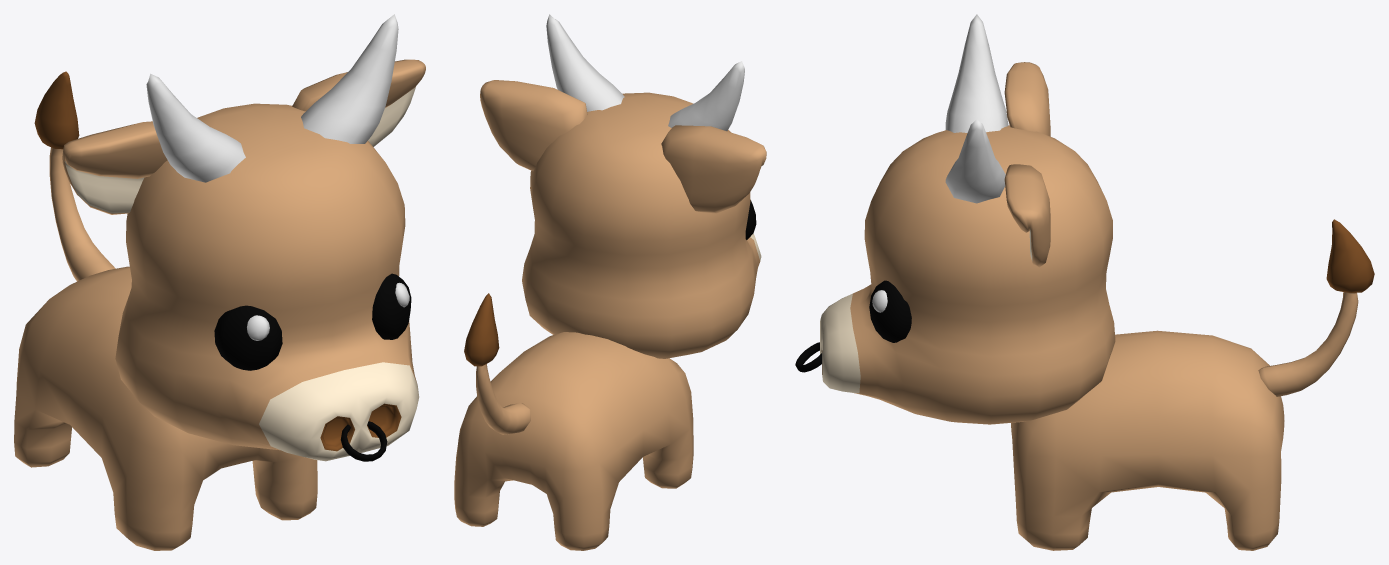
3 renders of one model, left to right at view 1: azimuth 30°, elevation 25°; view 2: azimuth 150°, elevation 25°; view 3: azimuth 270°, elevation 25°, orthographic. The views are drawn at different scales.
Parts seen in each view (by area): view 1: ox_head, ox_body; view 2: ox_head, ox_body; view 3: ox_head, ox_body.
Part boxes in pixels (<box>): ox_head: <box>62,14,425,461</box>; ox_body: <box>14,71,317,550</box>; ox_head: <box>480,14,766,358</box>; ox_body: <box>454,293,693,550</box>; ox_head: <box>795,14,1115,424</box>; ox_body: <box>1011,219,1374,550</box>.
Size of the model in its own units: 71.69 by 97.94 by 113.
